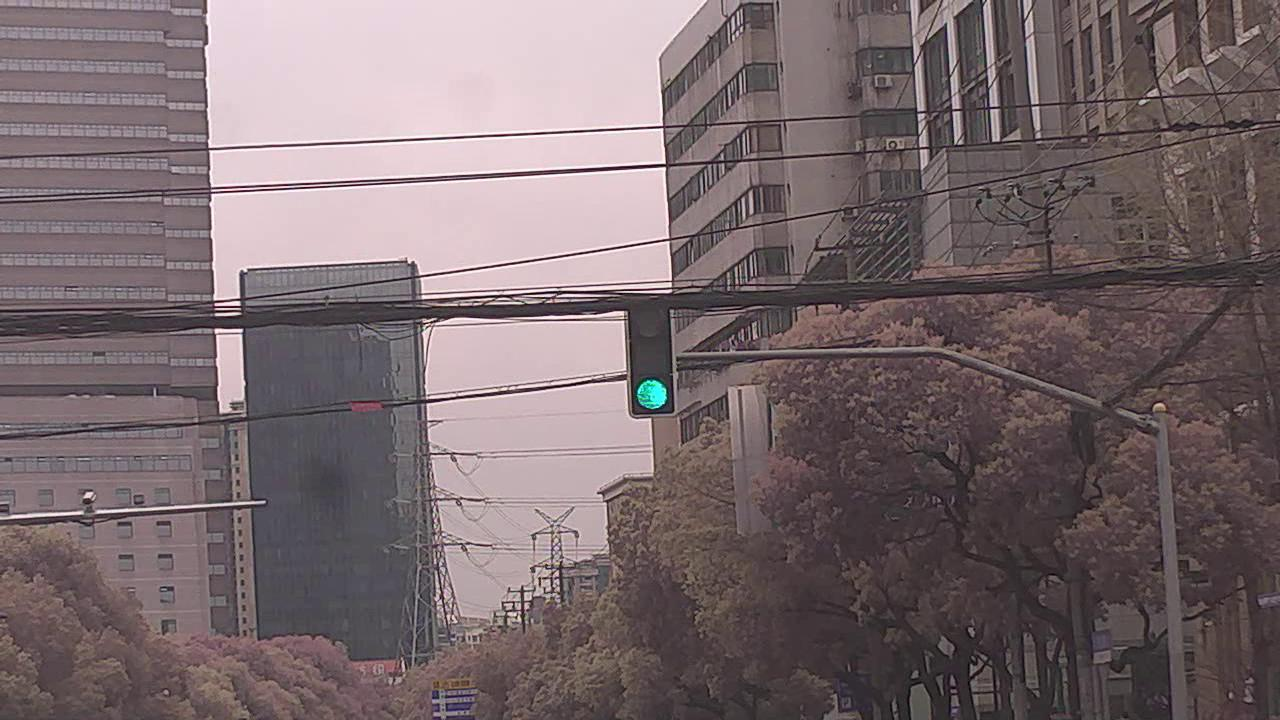traffic_light: (626, 292, 676, 416)
